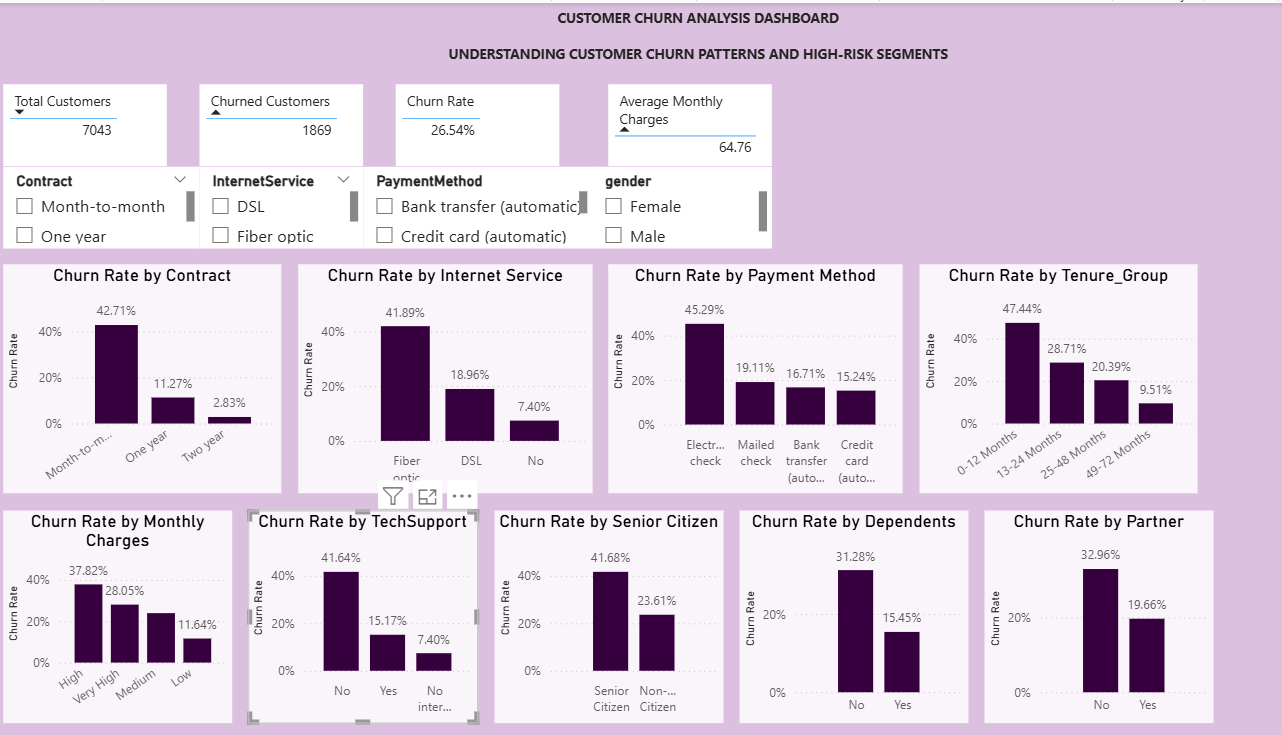

The page's visual inventory and layout, read from the dashboard file:
{"tool":"powerbi","page":{"name":"Page 1","canvas":[1280,720],"ordinal":0},"visuals":[{"type":"tableEx","fields":{"Values":["Customer churn Analysis.customerID"]},"box":[16,80,160,80],"z":0},{"type":"tableEx","fields":{"Values":["Customer churn Analysis.customerID"]},"box":[208,80,160,80],"z":1000},{"type":"tableEx","fields":{"Values":["Customer churn Analysis.Churn Rate"]},"box":[400,80,160,80],"z":2000},{"type":"tableEx","fields":{"Values":["Avg(Customer churn Analysis.MonthlyCharges)"]},"box":[608,80,160,80],"z":3000},{"type":"clusteredColumnChart","fields":{"Category":["Customer churn Analysis.Contract"],"Y":["Customer churn Analysis.Churn Rate"]},"box":[16,256,272,224],"z":4000},{"type":"clusteredColumnChart","title":"Churn Rate by Internet Service","fields":{"Category":["Customer churn Analysis.InternetService"],"Y":["Customer churn Analysis.Churn Rate"]},"box":[304,256,288,224],"z":5000},{"type":"clusteredColumnChart","title":"Churn Rate by Payment Method","fields":{"Y":["Customer churn Analysis.Churn Rate"],"Category":["Customer churn Analysis.PaymentMethod"]},"box":[608,256,288,224],"z":6000},{"type":"clusteredColumnChart","fields":{"Y":["Customer churn Analysis.Churn Rate"],"Category":["Customer churn Analysis.Tenure_Group"]},"box":[912,256,272,224],"z":7000},{"type":"clusteredColumnChart","title":"Churn Rate by Monthly Charges","fields":{"Y":["Customer churn Analysis.Churn Rate"],"Category":["Customer churn Analysis.Charges_Group"]},"box":[16,496,224,208],"z":8000},{"type":"clusteredColumnChart","fields":{"Y":["Customer churn Analysis.Churn Rate"],"Category":["Customer churn Analysis.TechSupport"]},"box":[256,496,224,208],"z":9000},{"type":"clusteredColumnChart","title":"Churn Rate by Senior Citizen","fields":{"Y":["Customer churn Analysis.Churn Rate"],"Category":["Customer churn Analysis.SeniorCitizen_Group"]},"box":[496,496,224,208],"z":10000},{"type":"clusteredColumnChart","fields":{"Category":["Customer churn Analysis.Dependents"],"Y":["Customer churn Analysis.Churn Rate"]},"box":[736,496,224,208],"z":11000},{"type":"clusteredColumnChart","fields":{"Category":["Customer churn Analysis.Partner"],"Y":["Customer churn Analysis.Churn Rate"]},"box":[976,496,224,208],"z":12000},{"type":"slicer","fields":{"Values":["Customer churn Analysis.Contract"]},"box":[16,160,192,80],"z":13000},{"type":"slicer","fields":{"Values":["Customer churn Analysis.InternetService"]},"box":[208,160,160,80],"z":14000},{"type":"slicer","fields":{"Values":["Customer churn Analysis.PaymentMethod"]},"box":[368,160,224,80],"z":15000},{"type":"slicer","fields":{"Values":["Customer churn Analysis.gender"]},"box":[592,160,176,80],"z":16000},{"type":"textbox","box":[416,0,560,64],"z":17000}]}

Visuals, with their boxes in screenshot pixels (x1, y1, x2, y2), scaled from the page's 1280x720 canvas onto the 1282x735 screenshot:
tableEx - Customer churn Analysis.customerID: BBox(16, 82, 176, 163)
tableEx - Customer churn Analysis.customerID: BBox(208, 82, 369, 163)
tableEx - Customer churn Analysis.Churn Rate: BBox(401, 82, 561, 163)
tableEx - Avg(Customer churn Analysis.MonthlyCharges): BBox(609, 82, 769, 163)
clusteredColumnChart - Customer churn Analysis.Contract x Customer churn Analysis.Churn Rate: BBox(16, 261, 288, 490)
"Churn Rate by Internet Service" clusteredColumnChart: BBox(304, 261, 593, 490)
"Churn Rate by Payment Method" clusteredColumnChart: BBox(609, 261, 897, 490)
clusteredColumnChart - Customer churn Analysis.Churn Rate x Customer churn Analysis.Tenure_Group: BBox(913, 261, 1186, 490)
"Churn Rate by Monthly Charges" clusteredColumnChart: BBox(16, 506, 240, 719)
clusteredColumnChart - Customer churn Analysis.Churn Rate x Customer churn Analysis.TechSupport: BBox(256, 506, 481, 719)
"Churn Rate by Senior Citizen" clusteredColumnChart: BBox(497, 506, 721, 719)
clusteredColumnChart - Customer churn Analysis.Dependents x Customer churn Analysis.Churn Rate: BBox(737, 506, 961, 719)
clusteredColumnChart - Customer churn Analysis.Partner x Customer churn Analysis.Churn Rate: BBox(978, 506, 1202, 719)
slicer - Customer churn Analysis.Contract: BBox(16, 163, 208, 245)
slicer - Customer churn Analysis.InternetService: BBox(208, 163, 369, 245)
slicer - Customer churn Analysis.PaymentMethod: BBox(369, 163, 593, 245)
slicer - Customer churn Analysis.gender: BBox(593, 163, 769, 245)
textbox: BBox(417, 0, 978, 65)
